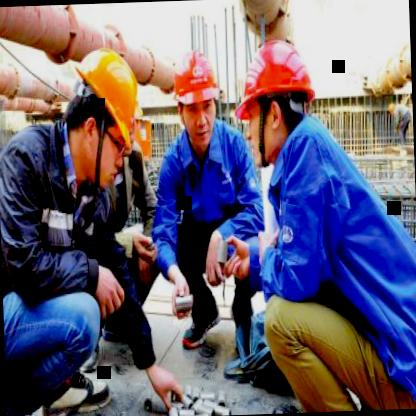helmet: (58, 42, 141, 189), (233, 32, 320, 160), (166, 40, 223, 152), (387, 101, 396, 115)
